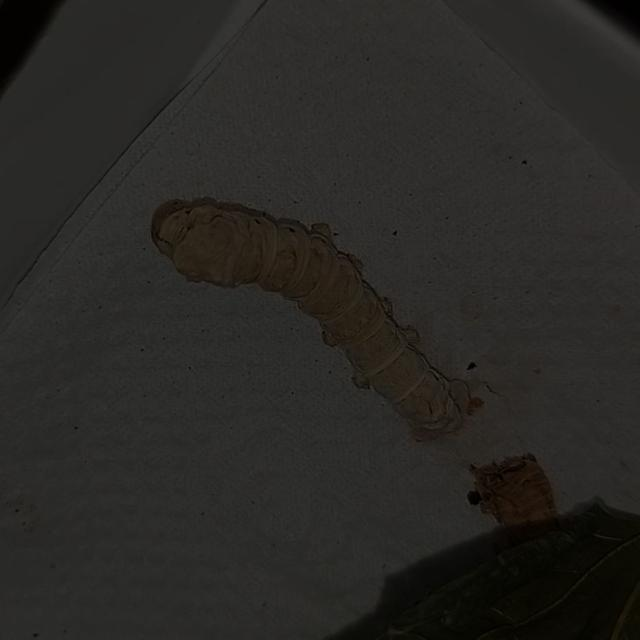Healthy: (143, 185, 488, 450)
